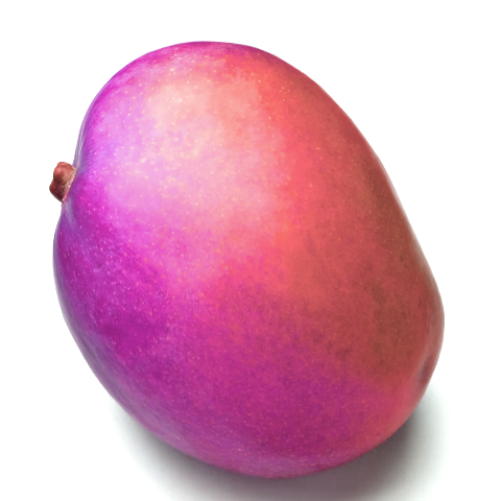mango: (15, 7, 480, 498)
